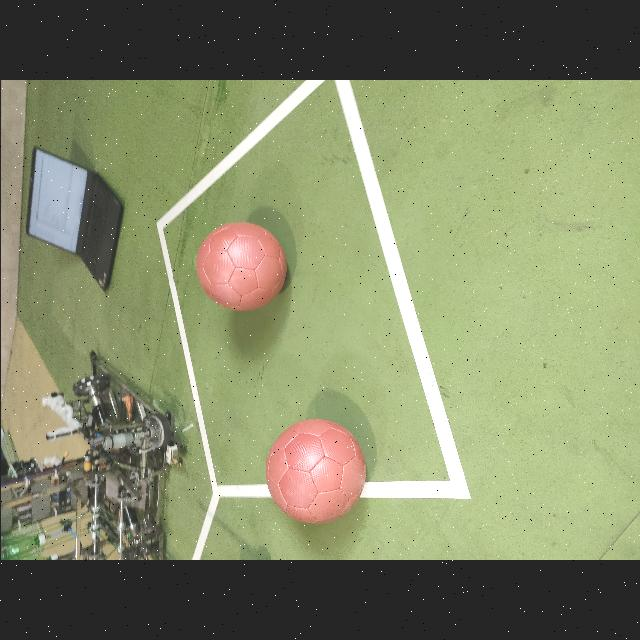R: (265, 419, 363, 523), (196, 223, 284, 311)
